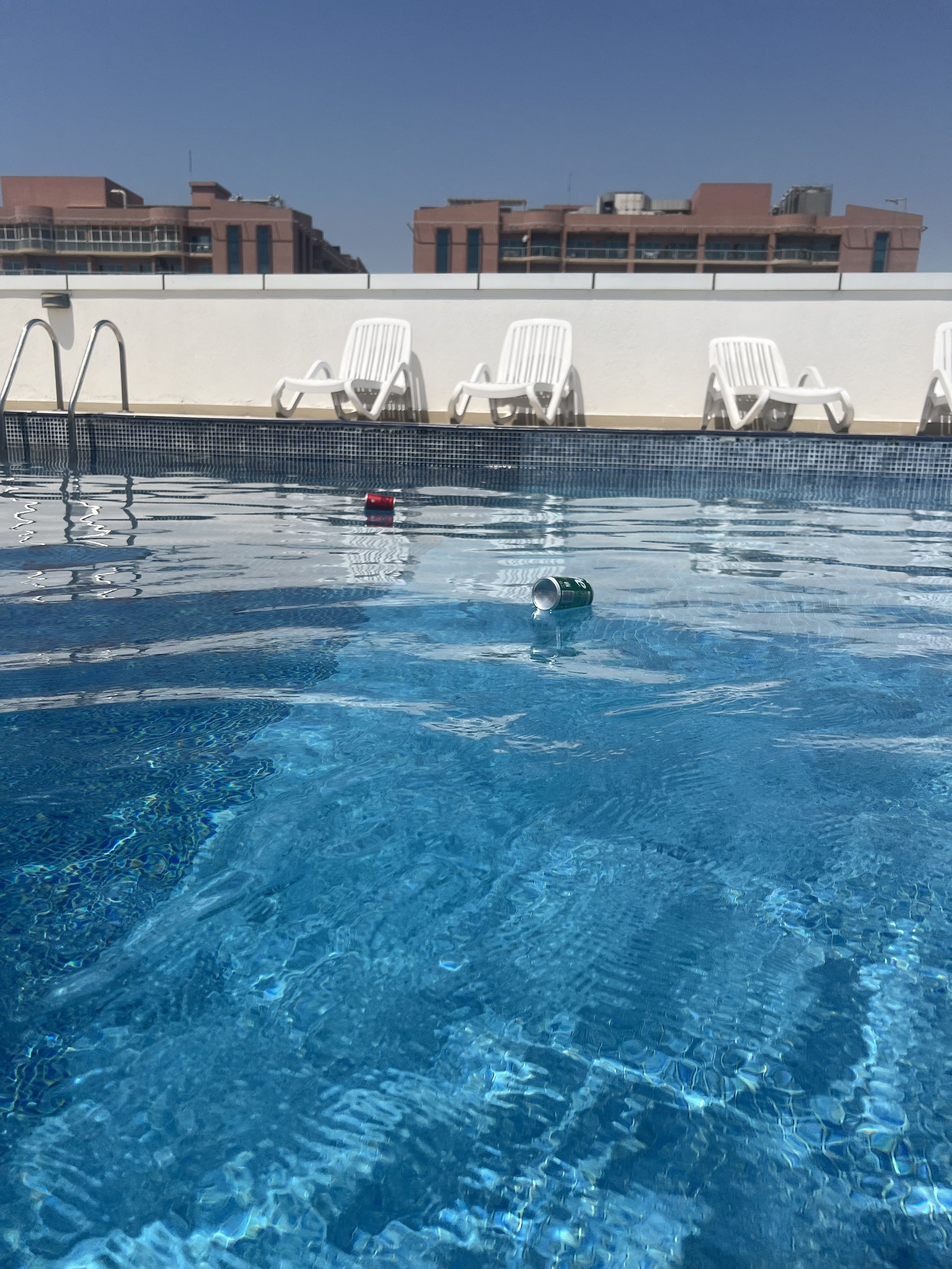debris: (529, 563, 596, 626), (362, 488, 397, 523)
